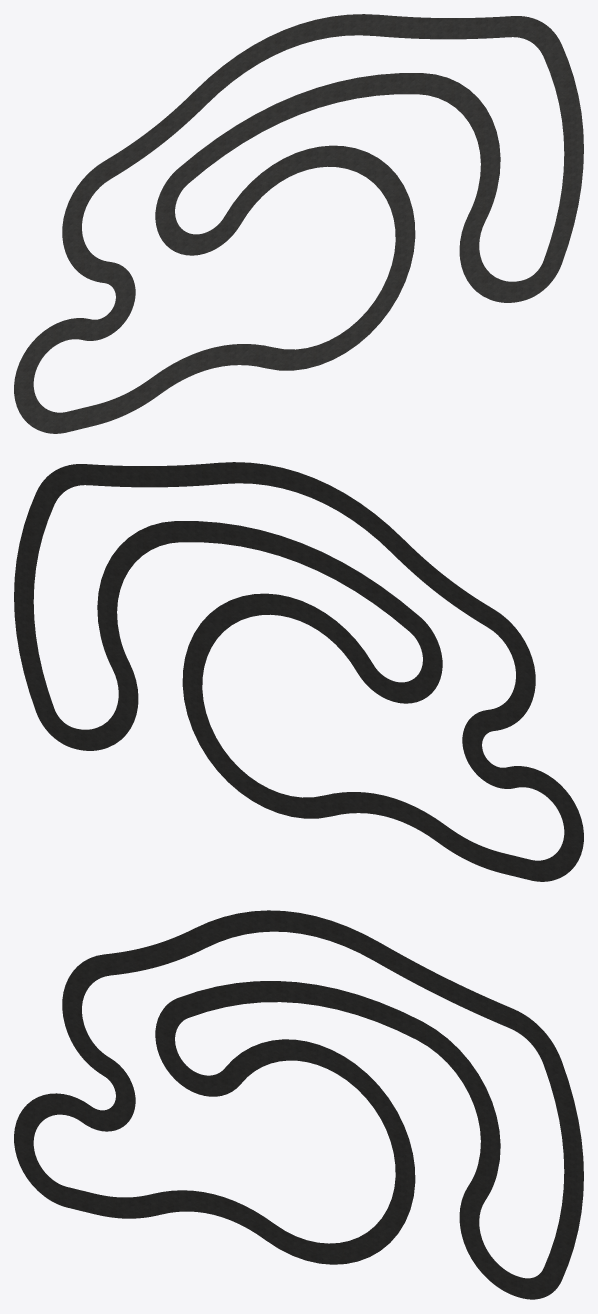
The model's file is track19_road.obj.
3 views of the same model, one above another, from view 1: azimuth 30°, elevation 25°; view 2: azimuth 150°, elevation 25°; view 3: azimuth 330°, elevation 25° (orthographic).
Parts seen in each view (by area): view 1: road_0_curve_; view 2: road_0_curve_; view 3: road_0_curve_.
Part boxes in pixels (x1,y1,x2,y2): road_0_curve_: (14,14,583,433); road_0_curve_: (14,462,583,881); road_0_curve_: (14,910,583,1299).
Bounding box in the file's own units: 47.23 × 27.88 × 0.
1 material, 1 textured.
